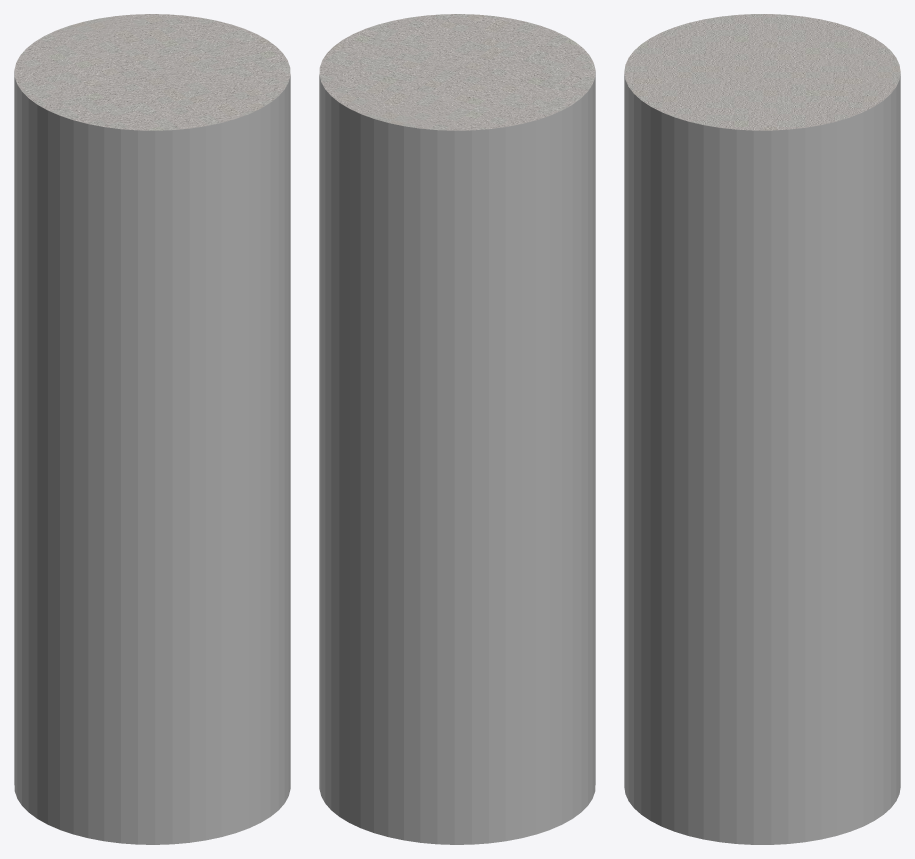
Rendered from Skyscraper2.fbx.
The picture shows the model from 3 angles, left to right: view 1: azimuth 30°, elevation 25°; view 2: azimuth 150°, elevation 25°; view 3: azimuth 270°, elevation 25°; orthographic projection.
Parts seen in each view (by area): view 1: building_019; view 2: building_019; view 3: building_019.
Part boxes in pixels (bbox=[...]): building_019: bbox=[14, 14, 290, 844]; building_019: bbox=[319, 14, 595, 844]; building_019: bbox=[624, 14, 900, 844].
Bounding box in the file's own units: 1512 × 4320 × 1515.
